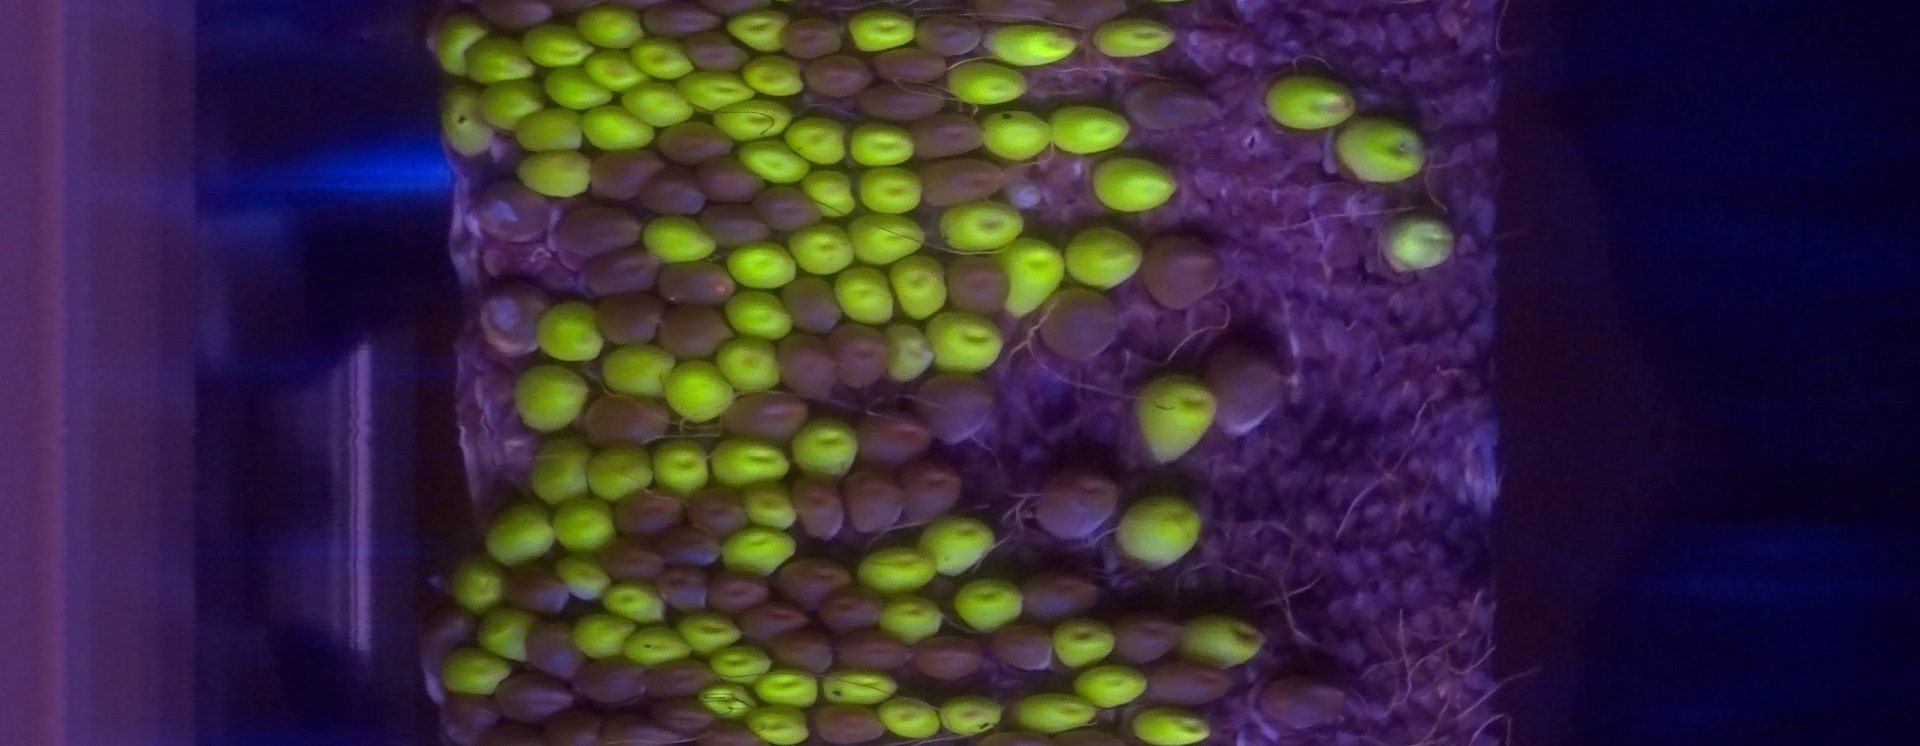fluorescent: (1128, 379, 1220, 461), (1116, 499, 1207, 570), (1331, 116, 1429, 183), (983, 244, 1067, 314), (1261, 70, 1357, 127), (512, 366, 590, 431), (931, 311, 1005, 372), (922, 514, 992, 579), (1093, 159, 1176, 213), (533, 301, 606, 361), (665, 358, 732, 423), (939, 197, 1020, 251), (1180, 619, 1262, 671), (1065, 230, 1138, 289), (480, 503, 553, 560), (1052, 105, 1129, 156), (584, 445, 653, 501), (844, 216, 922, 265), (716, 337, 784, 393), (534, 439, 591, 503), (514, 148, 594, 195), (476, 83, 553, 131), (437, 87, 492, 153), (982, 26, 1078, 64), (793, 419, 856, 477), (604, 345, 673, 397), (621, 78, 692, 129), (978, 109, 1049, 159), (834, 266, 894, 325), (711, 437, 791, 481), (716, 532, 796, 576), (523, 16, 589, 69), (855, 548, 936, 590), (891, 258, 949, 318), (955, 581, 1024, 631), (580, 104, 656, 149), (678, 69, 758, 111), (473, 610, 538, 661), (438, 650, 509, 697), (1381, 219, 1449, 268), (640, 214, 715, 258), (872, 595, 947, 639), (725, 240, 793, 287), (448, 559, 507, 612), (738, 140, 812, 183), (433, 13, 484, 76), (1053, 621, 1120, 668), (573, 7, 644, 51), (1089, 20, 1177, 55), (707, 102, 791, 138), (514, 109, 582, 154), (725, 293, 793, 337), (820, 665, 898, 704), (947, 62, 1026, 100), (553, 503, 615, 552), (1010, 697, 1093, 733), (791, 227, 853, 273), (656, 440, 711, 492), (1076, 665, 1145, 707), (676, 614, 742, 657), (1129, 709, 1209, 745), (782, 116, 846, 160), (468, 38, 530, 82), (582, 50, 651, 89), (740, 483, 798, 529), (933, 696, 1003, 735), (860, 167, 923, 209), (628, 38, 696, 78), (740, 54, 804, 96), (545, 70, 613, 109), (697, 679, 759, 722), (576, 615, 638, 657), (800, 170, 855, 217), (549, 556, 610, 598), (876, 698, 940, 737), (742, 706, 811, 742), (725, 12, 789, 51), (849, 10, 917, 45), (708, 646, 774, 682), (604, 584, 665, 624), (626, 627, 691, 664), (850, 124, 912, 162), (756, 673, 817, 706)
nonfluorescent: (1211, 341, 1282, 442), (1035, 462, 1120, 541), (1142, 235, 1224, 314), (1040, 285, 1123, 363), (917, 367, 999, 443), (475, 281, 547, 361), (1254, 673, 1347, 726), (1129, 75, 1218, 130), (943, 254, 1011, 322), (478, 181, 553, 243), (722, 388, 806, 443), (1022, 568, 1101, 626), (582, 388, 666, 441), (902, 461, 962, 533), (913, 156, 1007, 202), (851, 408, 926, 465), (557, 205, 637, 258), (845, 467, 905, 537), (778, 330, 838, 397), (493, 676, 573, 725), (857, 81, 949, 122), (419, 597, 478, 661), (573, 660, 653, 708), (836, 322, 887, 394), (1145, 661, 1228, 704), (662, 304, 730, 356), (613, 489, 681, 541), (590, 147, 659, 198), (684, 485, 746, 543), (795, 472, 845, 541), (778, 559, 849, 608), (906, 113, 987, 156), (1116, 612, 1184, 663), (782, 277, 845, 332), (659, 266, 740, 306), (598, 295, 664, 344), (503, 563, 564, 616), (703, 154, 763, 207), (683, 27, 749, 75), (740, 601, 811, 646), (636, 2, 721, 38), (912, 636, 980, 680), (758, 180, 819, 228), (918, 13, 984, 58), (438, 690, 495, 741), (588, 251, 654, 294), (527, 621, 582, 673), (802, 51, 864, 96), (872, 50, 951, 85), (700, 207, 771, 245), (659, 122, 729, 160), (658, 563, 708, 616), (650, 167, 704, 216), (650, 661, 711, 703), (782, 20, 842, 61), (605, 537, 660, 582), (601, 710, 671, 746), (656, 527, 721, 565), (836, 635, 902, 671), (707, 577, 770, 615), (825, 588, 882, 630), (996, 628, 1047, 674), (656, 699, 719, 736), (479, 1, 546, 31), (778, 635, 831, 670), (549, 707, 595, 746)
